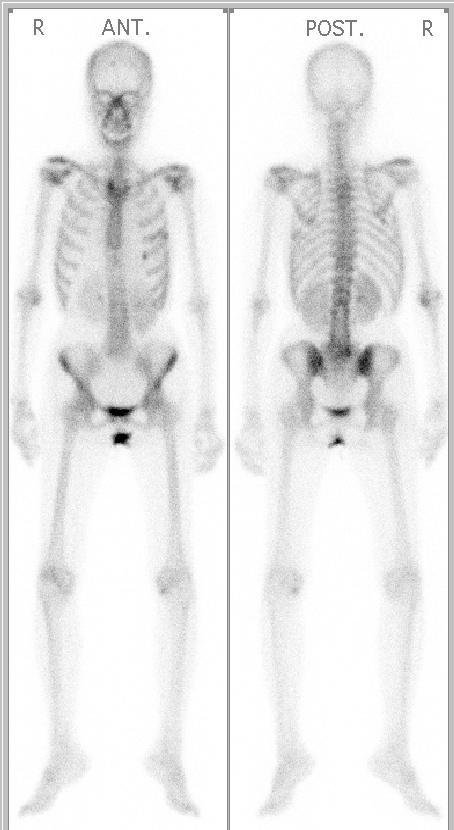person: (8, 10, 448, 829)
